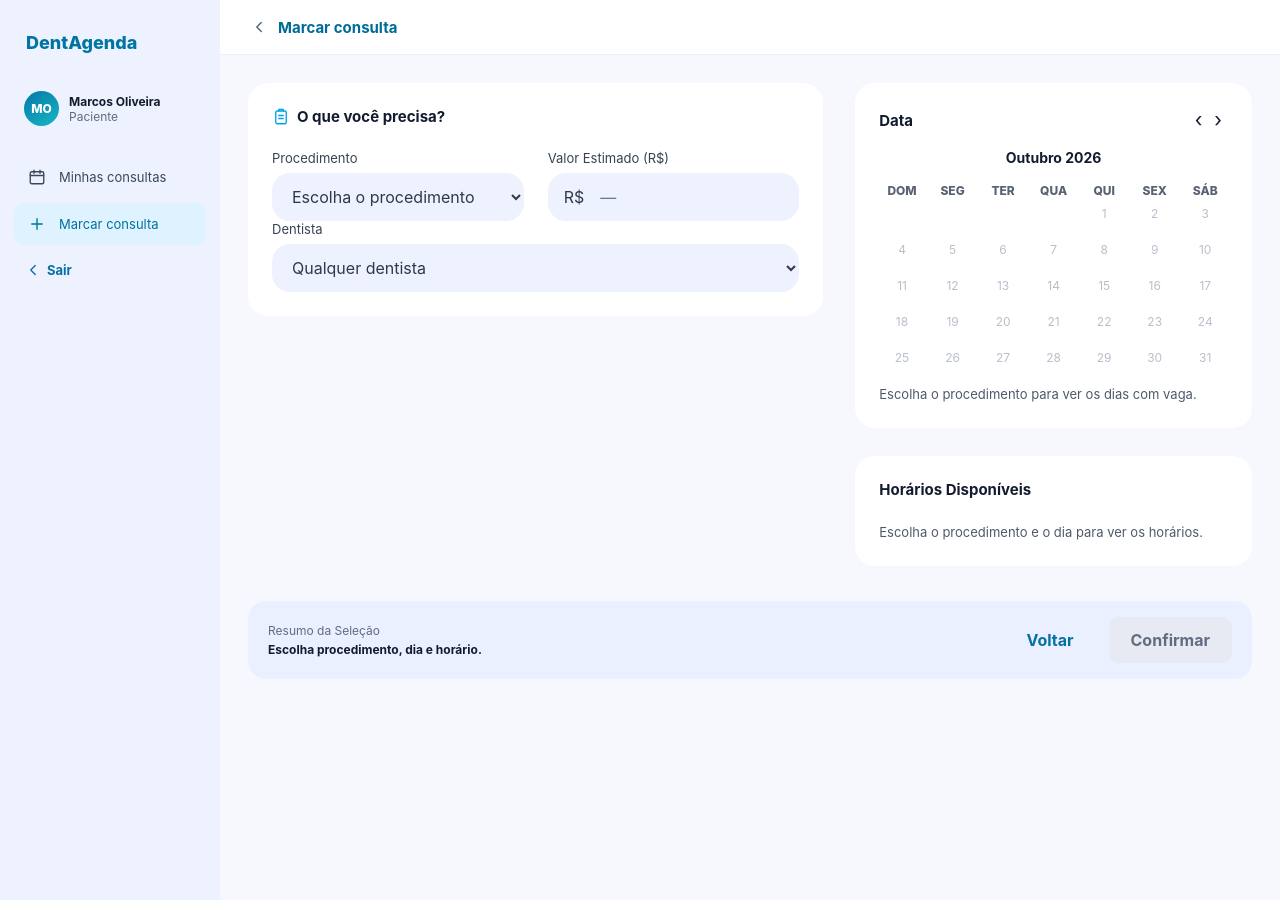
Test: Marcar consulta pelo paciente (D35) › outro erro da API (422): mostra a mensagem dela e mantém a escolha
The image size is (1280, 900).
Step 1. Select "Limpeza (60 min)" in the dropdown labelled "Procedimento" → (398, 197), box [272,173,524,221]
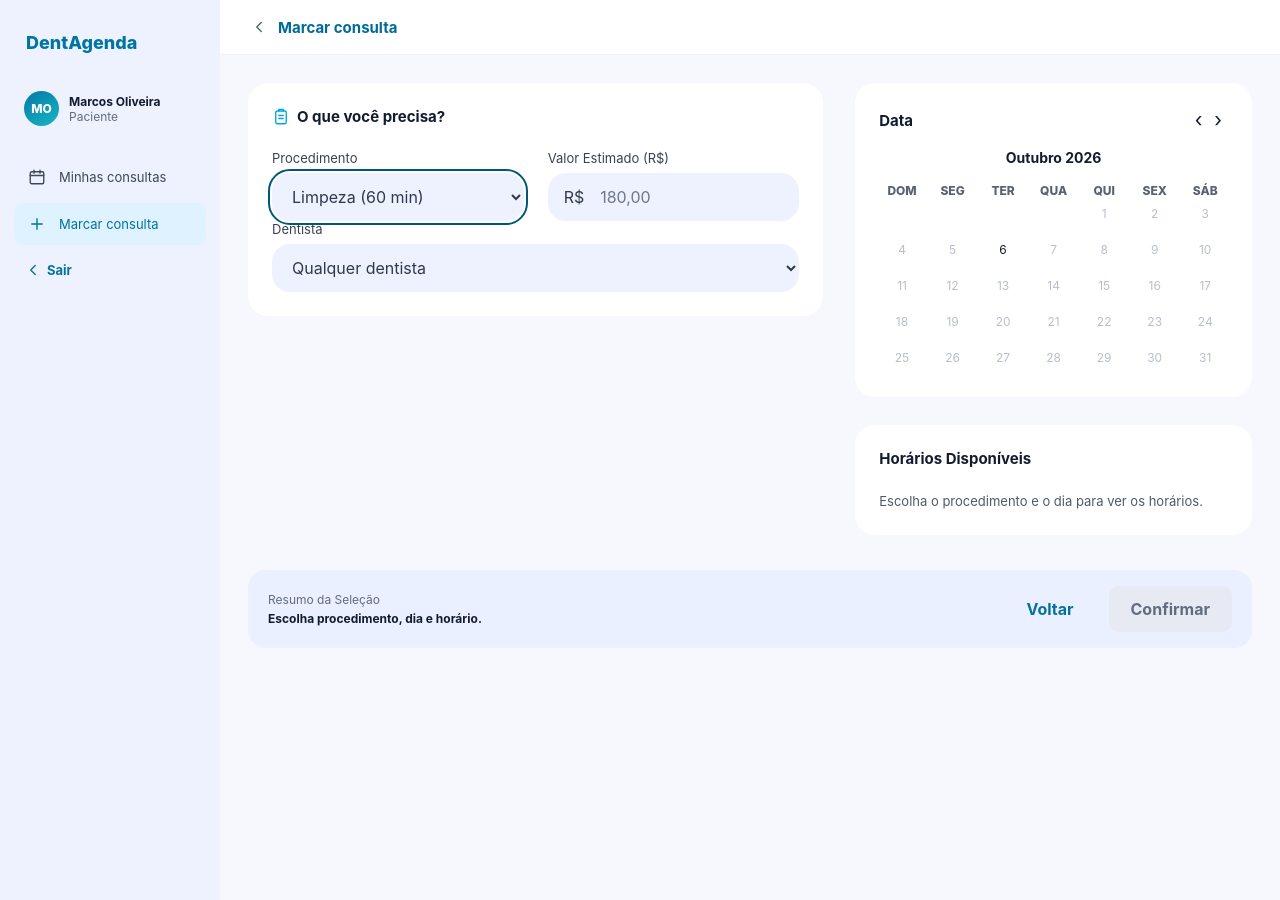
Expected: the text "180,00" is shown, [600,187,651,207]
Step 2. Click the button named "6 de outubro de 2026" → (1003, 250), box [980,234,1026,265]
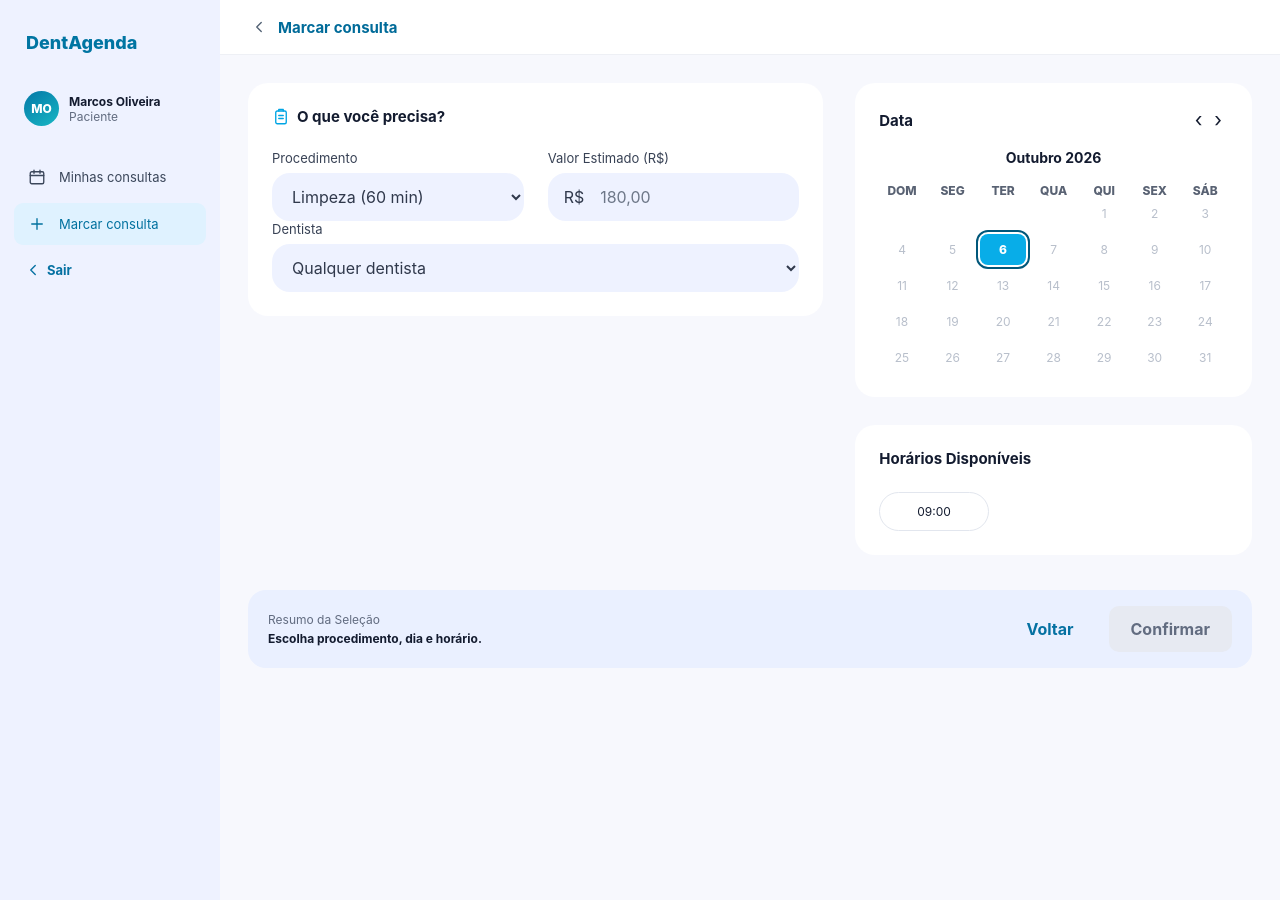
Step 3. Click the button "09:00" → (934, 512), box [879,492,989,531]
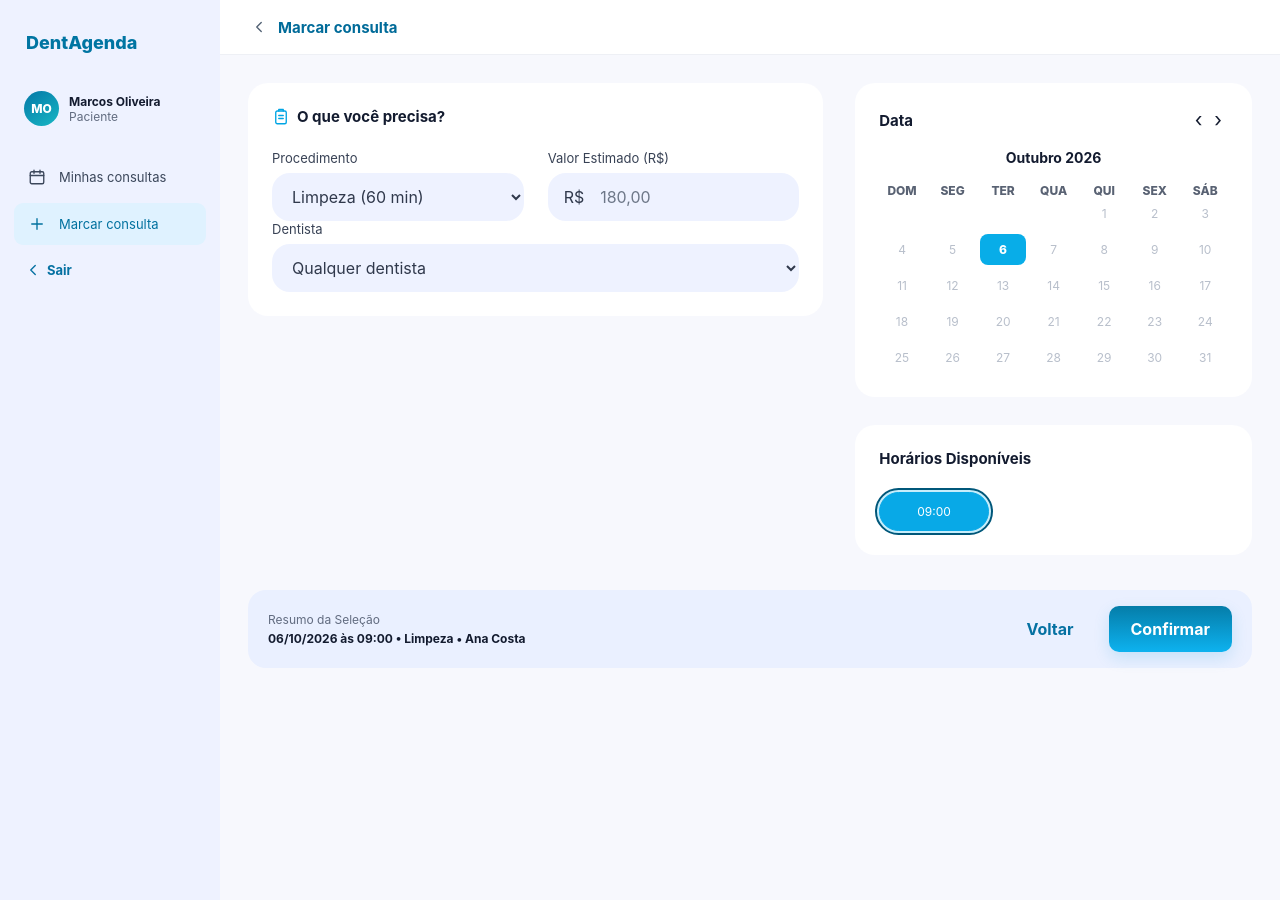
Step 4. Click the button "Confirmar" → (1170, 629), box [1108,606,1232,652]
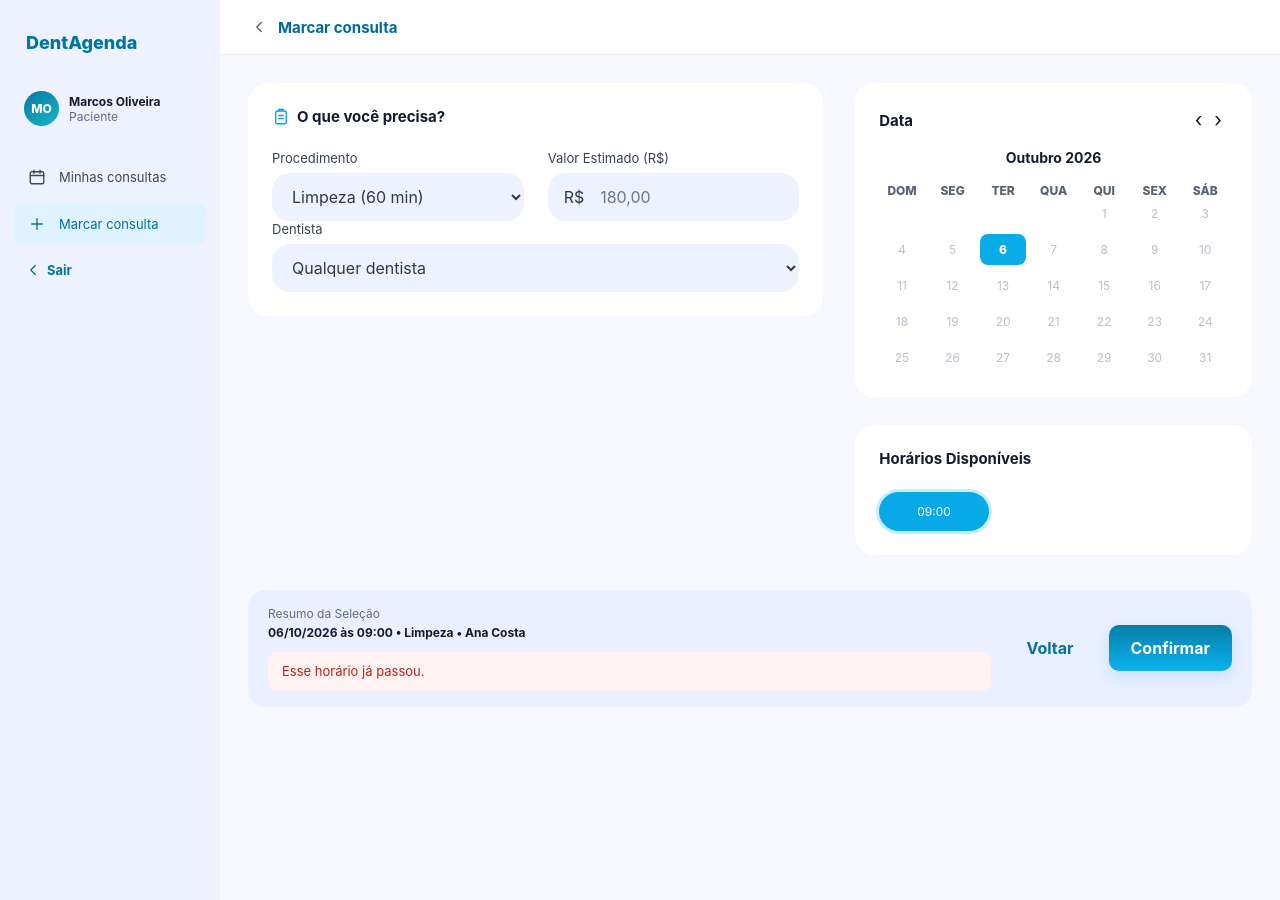
Expected: the button "Confirmar" is enabled, [1108,625,1232,671]
Expected: the message reads "Esse horário já passou.", [282,663,424,679]
